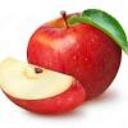apple: (1, 56, 88, 116)
